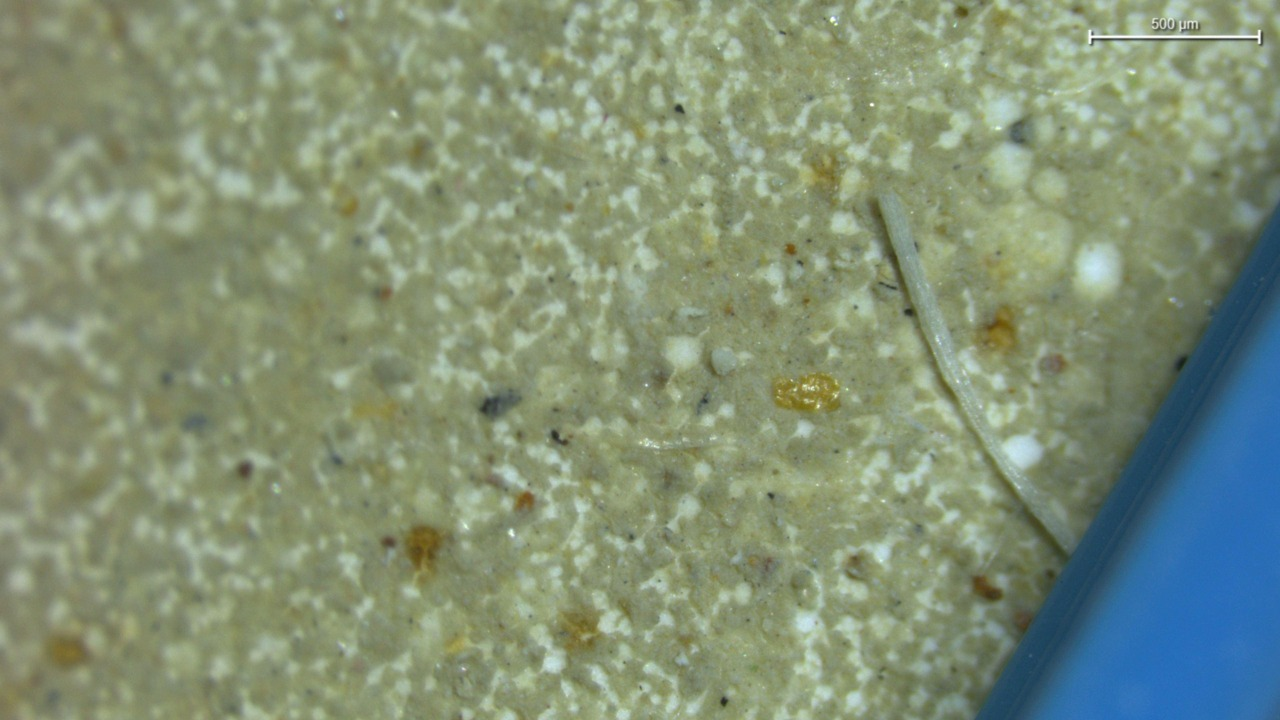microplastic_fragment: (773, 373, 840, 412), (711, 347, 737, 375)
